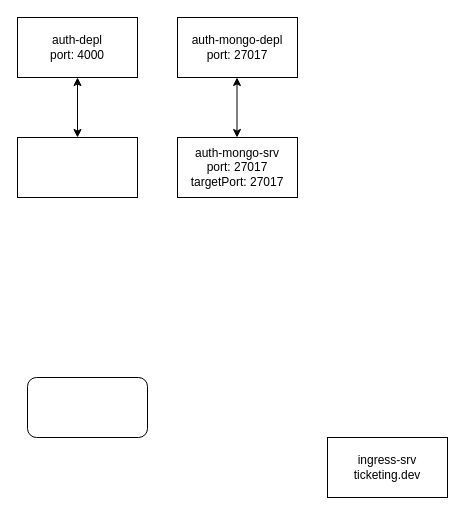
The diagram is 465 pixels wide and 515 high, and some of its shapes have lost their labels. Here are the shapes that lost their labels. From the top down, the centre of each, then its label:
(77,167): auth-srv port: 4000 targetPort: 4000
(87,407): Serect jwt-secret
